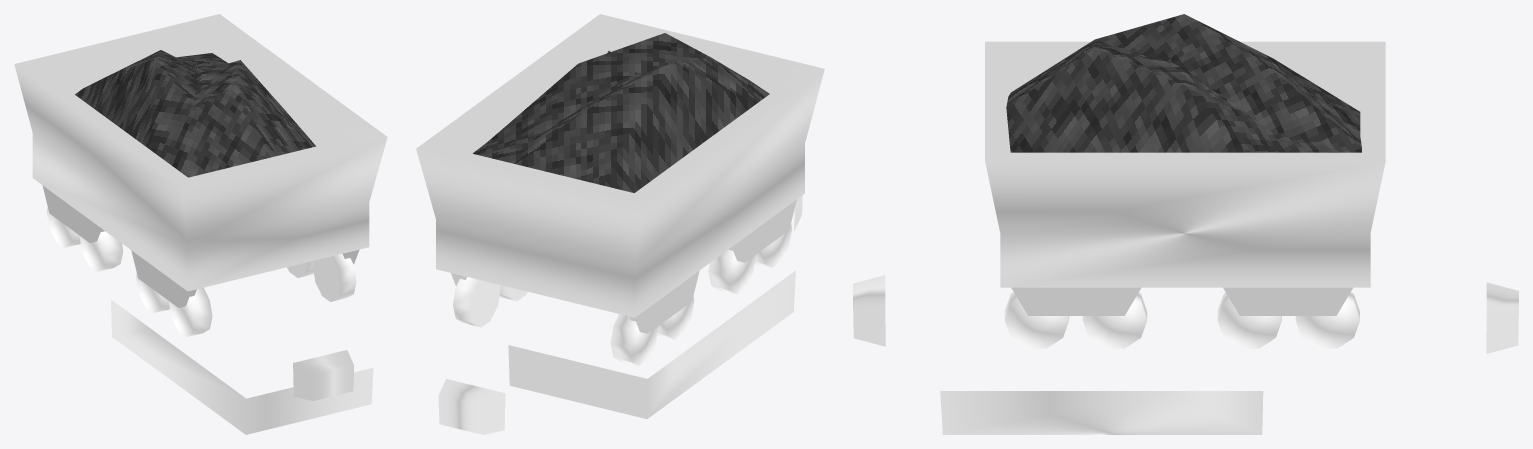
The picture shows the model from 3 angles, left to right: view 1: azimuth 30°, elevation 25°; view 2: azimuth 150°, elevation 25°; view 3: azimuth 270°, elevation 25°; orthographic projection. The views are drawn at different scales.
Parts seen in each view (by area): view 1: car_coal, coalheap, engine_bottom, engine_attachy, engine_Lw1, engine_wf01, engine_wf04, engine_wf05, engine_wf; view 2: car_coal, coalheap, engine_bottom, engine_attachy01, engine_Lwf04, engine_wf05, engine_wf, engine_wf01, engine_wf04; view 3: car_coal, coalheap, engine_bottom, engine_attachy01, engine_attachy, engine_Lw1, engine_Lwf04, engine_Lwf2, engine_Lw03.
Boxes of the visible parts, x1=… form: car_coal: x1=14, y1=14, x2=387, y2=307; coalheap: x1=75, y1=50, x2=315, y2=177; engine_bottom: x1=111, y1=300, x2=373, y2=434; engine_attachy: x1=293, y1=350, x2=353, y2=400; engine_Lw1: x1=312, y1=254, x2=356, y2=301; engine_wf01: x1=168, y1=287, x2=212, y2=337; engine_wf04: x1=79, y1=231, x2=123, y2=271; engine_wf05: x1=46, y1=207, x2=80, y2=247; engine_wf: x1=136, y1=273, x2=169, y2=313; car_coal: x1=416, y1=14, x2=824, y2=333; coalheap: x1=473, y1=33, x2=769, y2=192; engine_bottom: x1=508, y1=270, x2=795, y2=418; engine_attachy01: x1=438, y1=379, x2=505, y2=434; engine_Lwf04: x1=453, y1=277, x2=500, y2=327; engine_wf05: x1=610, y1=314, x2=658, y2=365; engine_wf: x1=708, y1=249, x2=756, y2=294; engine_wf01: x1=755, y1=224, x2=791, y2=267; engine_wf04: x1=657, y1=296, x2=694, y2=339; car_coal: x1=985, y1=41, x2=1385, y2=315; coalheap: x1=1006, y1=14, x2=1361, y2=152; engine_bottom: x1=940, y1=391, x2=1263, y2=434; engine_attachy01: x1=1486, y1=282, x2=1518, y2=353; engine_attachy: x1=853, y1=275, x2=885, y2=346; engine_Lw1: x1=1004, y1=292, x2=1069, y2=348; engine_Lwf04: x1=1295, y1=292, x2=1359, y2=348; engine_Lwf2: x1=1082, y1=292, x2=1147, y2=348; engine_Lw03: x1=1217, y1=292, x2=1281, y2=348.
Size of the model in its own units: 123 by 170 by 289.
Materials: 13 (1 with a texture image).
